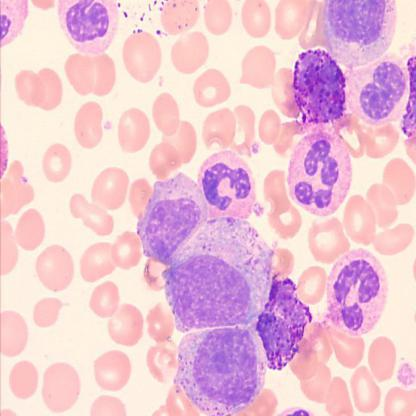Basophil: (136, 171, 268, 415), (291, 42, 349, 127)
